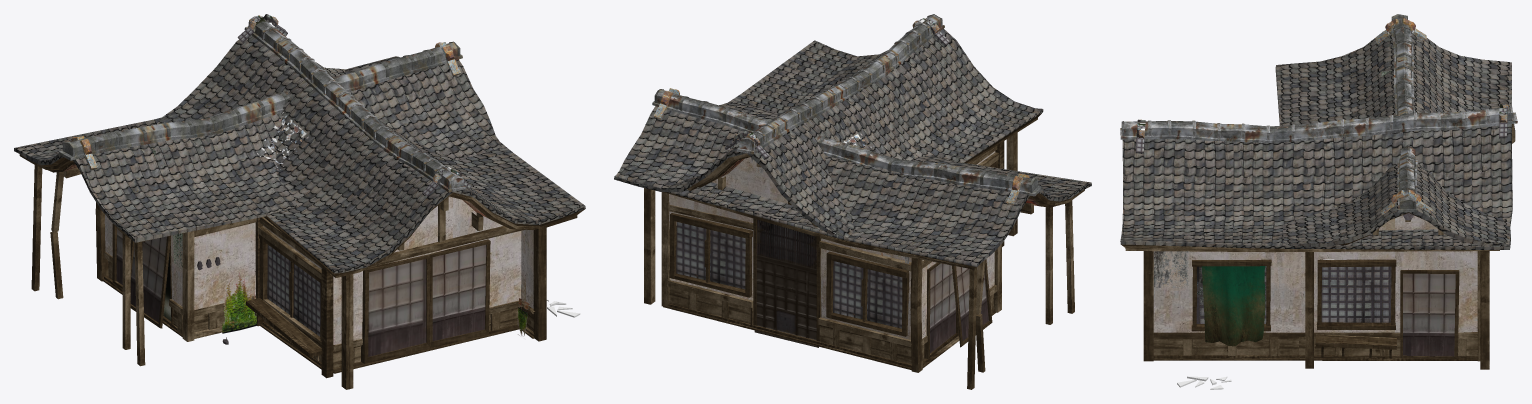
The model's file is japanese_house_model.glb.
3 views of the same model, side by side, from view 1: azimuth 30°, elevation 25°; view 2: azimuth 150°, elevation 25°; view 3: azimuth 270°, elevation 25° (orthographic). The views are drawn at different scales.
Parts seen in each view (by area): view 1: Object_8, Object_7, Object_9, Object_3, Object_6, Object_5; view 2: Object_8, Object_7, Object_9, Object_3, Object_6; view 3: Object_8, Object_7, Object_9, Object_6, Object_3, Object_5, Object_2.
Part boxes in pixels (box(x1,y1,x2,y2)): Object_8: box(14, 35, 585, 273); Object_7: box(19, 154, 584, 389); Object_9: box(82, 14, 486, 356); Object_3: box(58, 16, 488, 218); Object_6: box(104, 196, 533, 344); Object_5: box(150, 112, 529, 336); Object_8: box(614, 28, 1091, 266); Object_7: box(644, 113, 1084, 389); Object_9: box(654, 18, 1021, 353); Object_3: box(652, 14, 1042, 206); Object_6: box(669, 151, 995, 339); Object_8: box(1120, 31, 1515, 249); Object_7: box(1121, 124, 1515, 369); Object_9: box(1135, 18, 1508, 356); Object_6: box(1153, 215, 1477, 332); Object_3: box(1120, 14, 1517, 212); Object_5: box(1154, 70, 1476, 288); Object_2: box(1385, 18, 1421, 205).
Size of the model in its own units: 1358 by 695 by 1178.
7 materials, 6 textured.
